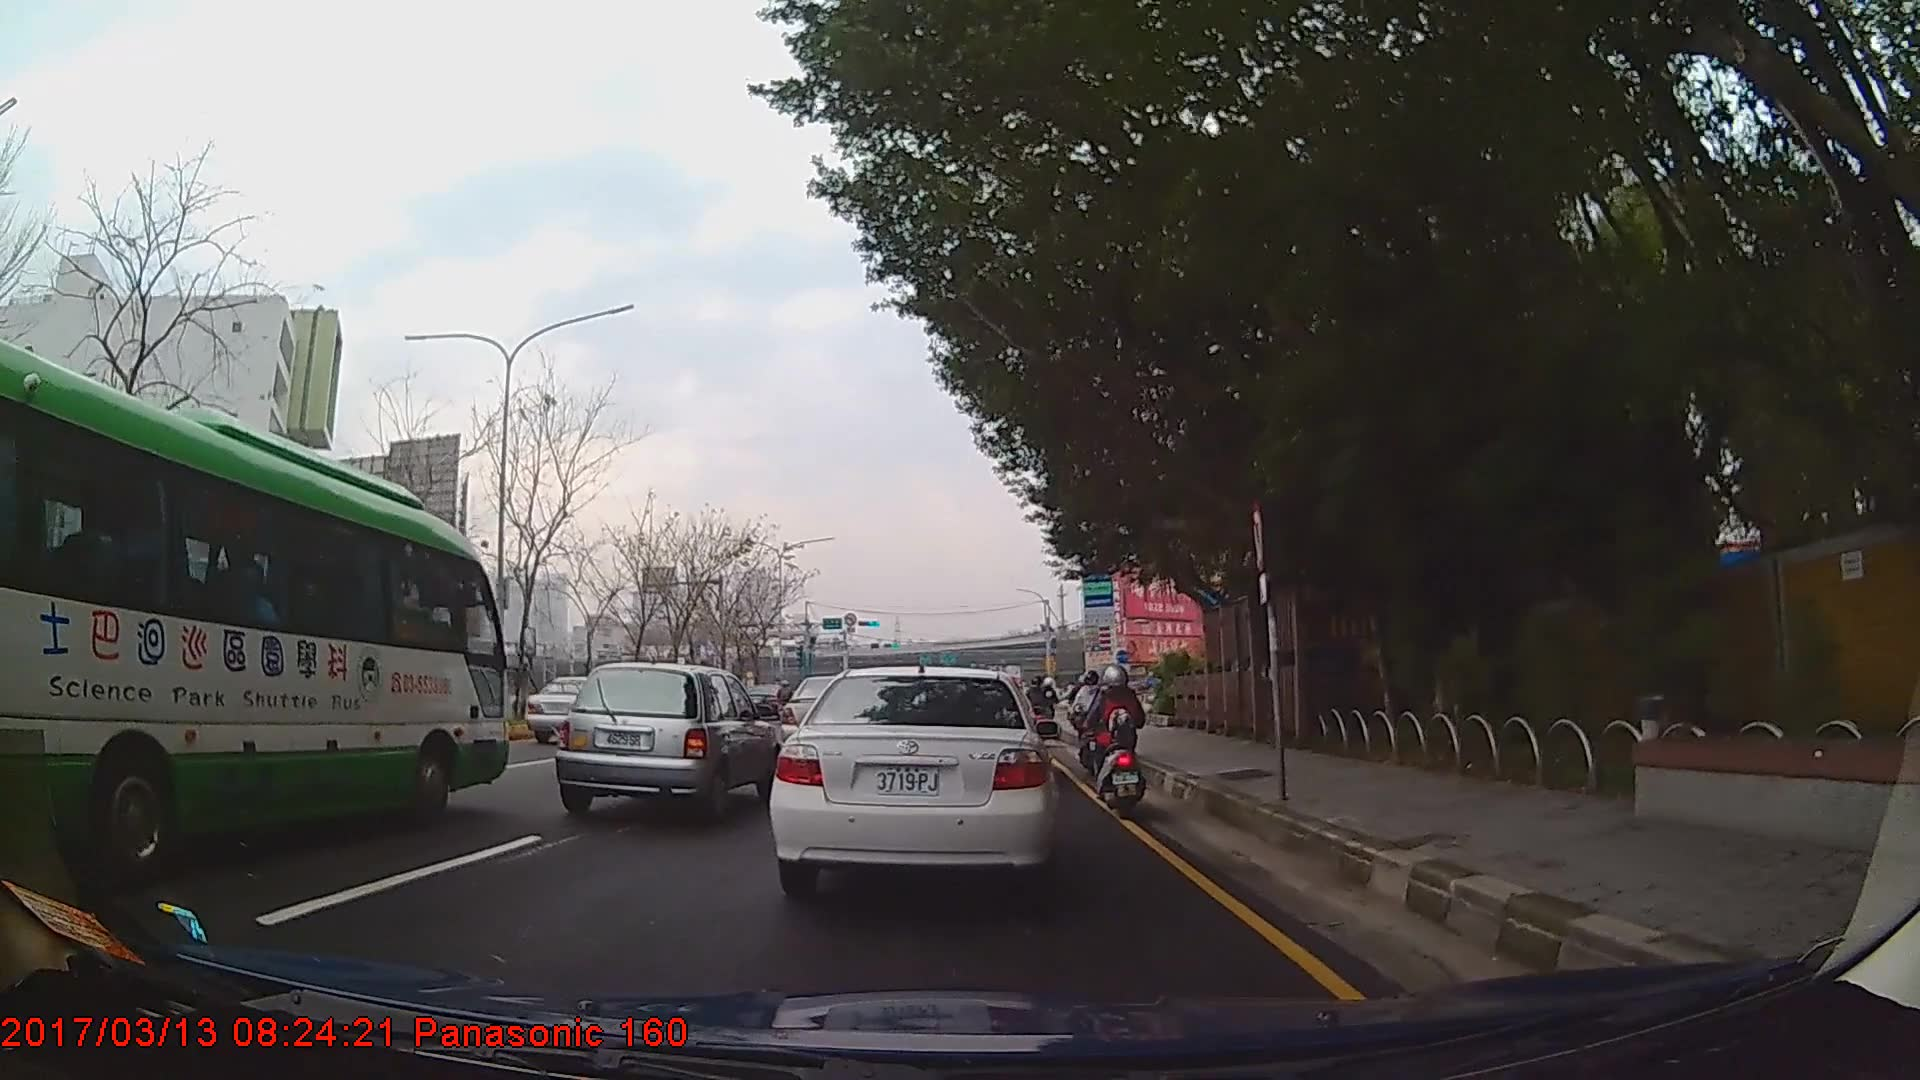rider: (1088, 661, 1149, 817), (1070, 671, 1113, 782), (1027, 676, 1052, 733)
vehicle: (0, 338, 506, 906), (768, 663, 1059, 897), (552, 662, 780, 825), (524, 673, 594, 746), (740, 682, 792, 718)
